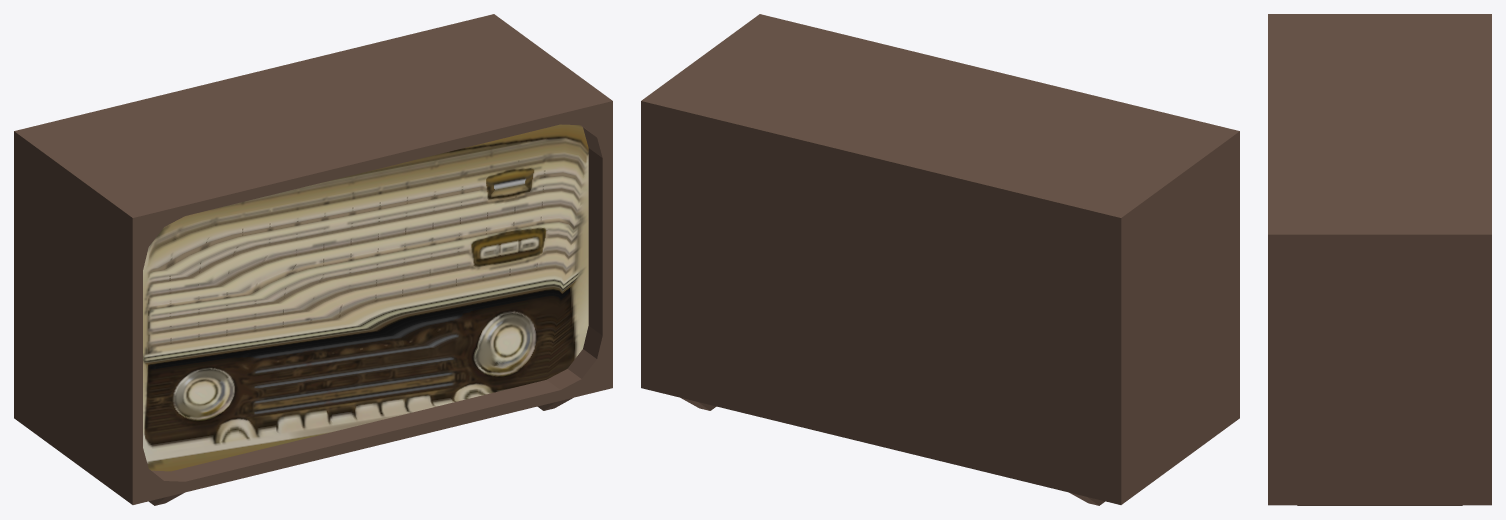
The model's file is Radio.fbx.
3 renders of one model, left to right at view 1: azimuth 30°, elevation 25°; view 2: azimuth 150°, elevation 25°; view 3: azimuth 270°, elevation 25°, orthographic. The views are drawn at different scales.
Visible parts, largest first — view 1: Cube.518; view 2: Cube.518; view 3: Cube.518.
Part boxes in pixels (x1,y1,x2,y2): Cube.518: (14, 14, 612, 505); Cube.518: (641, 14, 1239, 505); Cube.518: (1268, 14, 1491, 505).
Size of the model in its own units: 101 by 61.92 by 43.2.
